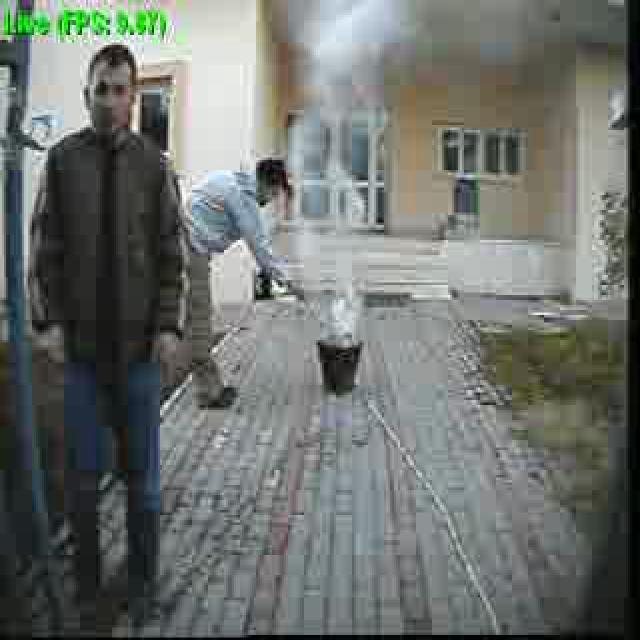Smoke: (293, 11, 382, 320)
